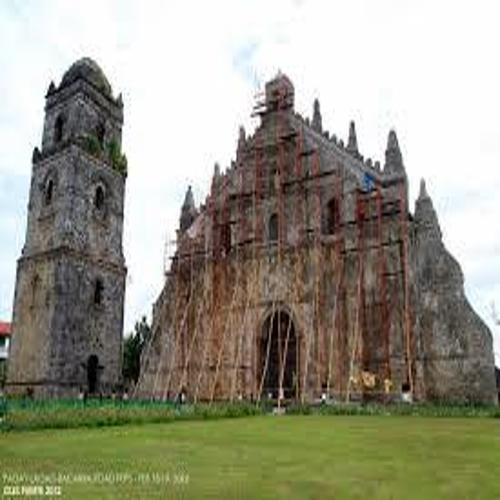Paoay Church: (11, 50, 495, 411)
